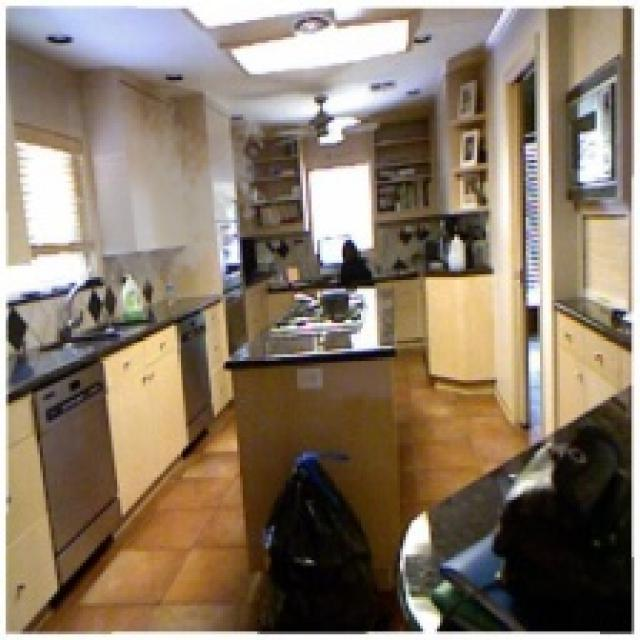Smoke: (66, 88, 272, 300)
